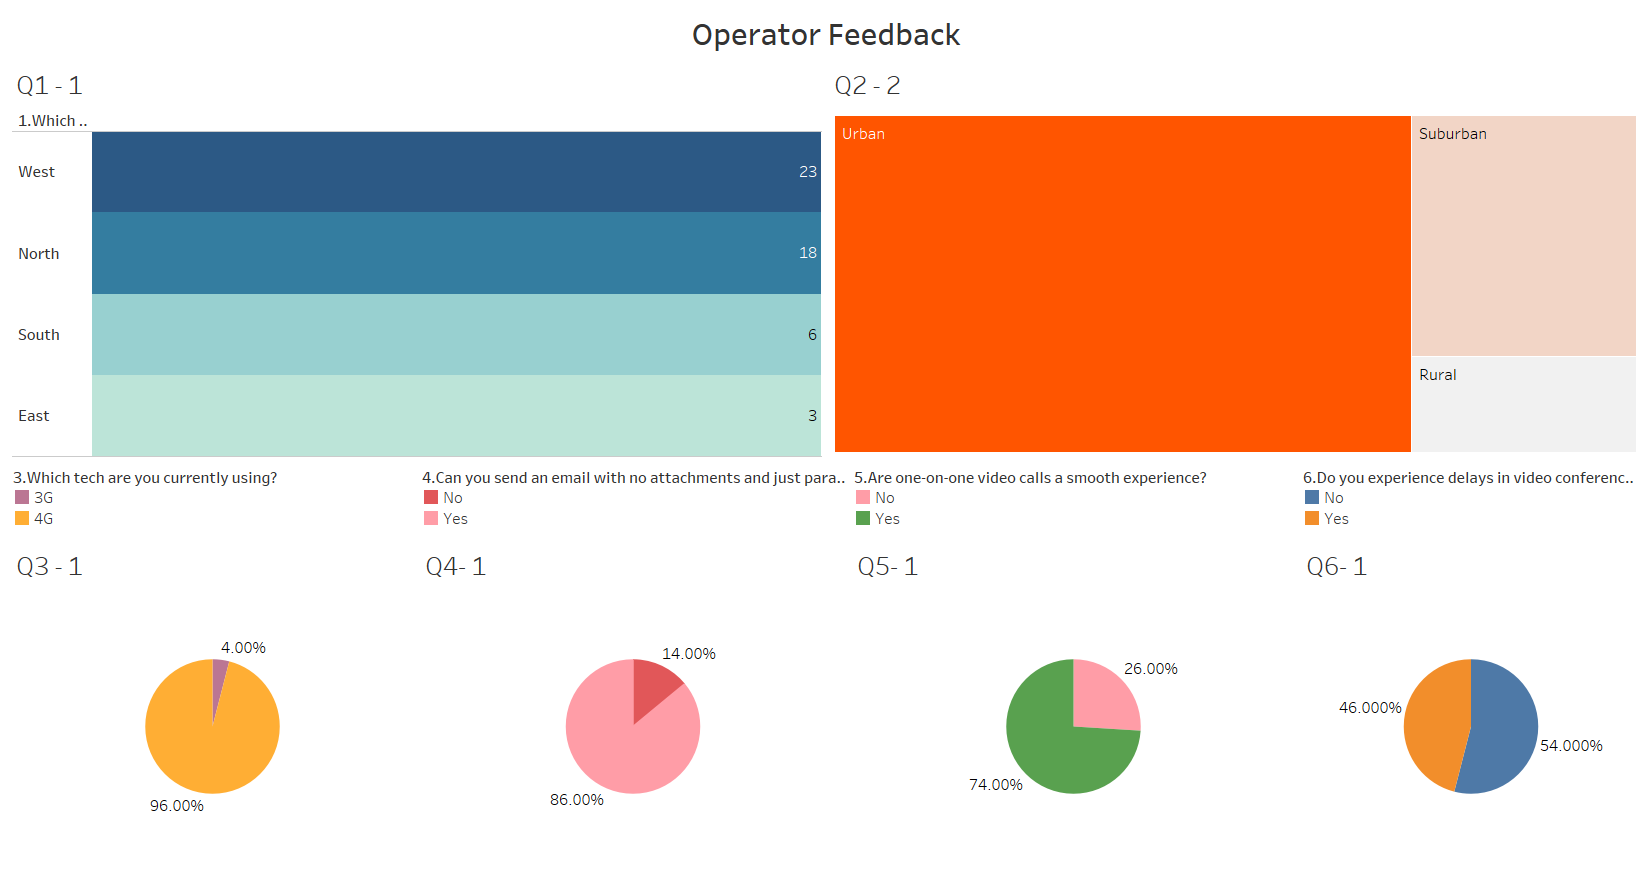

The dashboard page shown, as its layout file describes it:
{"tool":"tableau","page":{"name":"Basic Analysis","canvas":[1000,1000],"units":"permille","ordinal":0},"visuals":[{"type":"title","box":[4.8,9.2,990.3,56.1]},{"type":"worksheet","title":"Q1 - 1","mark":"Square","rows":["1.Which region of India are you from?"],"box":[4.8,65.3,495.2,462.8]},{"type":"worksheet","title":"Q2 - 2","mark":"Automatic","box":[500,65.3,495.2,462.8]},{"type":"legend","title":"Q3 - 1","param":"[federated.03yo3nc1uq0xte18hni1j0jtv1ar].[none:3.Which tech are you currently us","box":[4.8,528.1,247.6,88.8]},{"type":"legend","title":"Q4- 1","param":"[federated.03yo3nc1uq0xte18hni1j0jtv1ar].[none:4.Can you send an email with no a","box":[252.4,528.1,261.7,88.8]},{"type":"legend","title":"Q5- 1","param":"[federated.03yo3nc1uq0xte18hni1j0jtv1ar].[none:5.Are one-on-one video calls a sm","box":[514.1,528.1,271.7,88.8]},{"type":"legend","title":"Q6- 1","param":"[federated.03yo3nc1uq0xte18hni1j0jtv1ar].[none:6.Do you experience delays in vid","box":[785.8,528.1,209.4,88.8]},{"type":"worksheet","title":"Q3 - 1","mark":"Pie","box":[4.8,616.8,247.6,374]},{"type":"worksheet","title":"Q4- 1","mark":"Pie","box":[252.4,616.8,261.7,374]},{"type":"worksheet","title":"Q5- 1","mark":"Pie","box":[514.1,616.8,271.7,374]},{"type":"worksheet","title":"Q6- 1","mark":"Pie","box":[785.8,616.8,209.4,374]}]}

Visuals, with their boxes on the dashboard's canvas, which has no fixed pixel size, in thousandths of its width and height (x1, y1, x2, y2). These are canvas units, not pixel positions in the 1652x873 screenshot, which may show the page scaled, cropped or inside an application window:
title: (left=5, top=9, right=995, bottom=65)
"Q1 - 1" worksheet (Square marks): (left=5, top=65, right=500, bottom=528)
"Q2 - 2" worksheet: (left=500, top=65, right=995, bottom=528)
"Q3 - 1" legend: (left=5, top=528, right=252, bottom=617)
"Q4- 1" legend: (left=252, top=528, right=514, bottom=617)
"Q5- 1" legend: (left=514, top=528, right=786, bottom=617)
"Q6- 1" legend: (left=786, top=528, right=995, bottom=617)
"Q3 - 1" worksheet (Pie marks): (left=5, top=617, right=252, bottom=991)
"Q4- 1" worksheet (Pie marks): (left=252, top=617, right=514, bottom=991)
"Q5- 1" worksheet (Pie marks): (left=514, top=617, right=786, bottom=991)
"Q6- 1" worksheet (Pie marks): (left=786, top=617, right=995, bottom=991)
